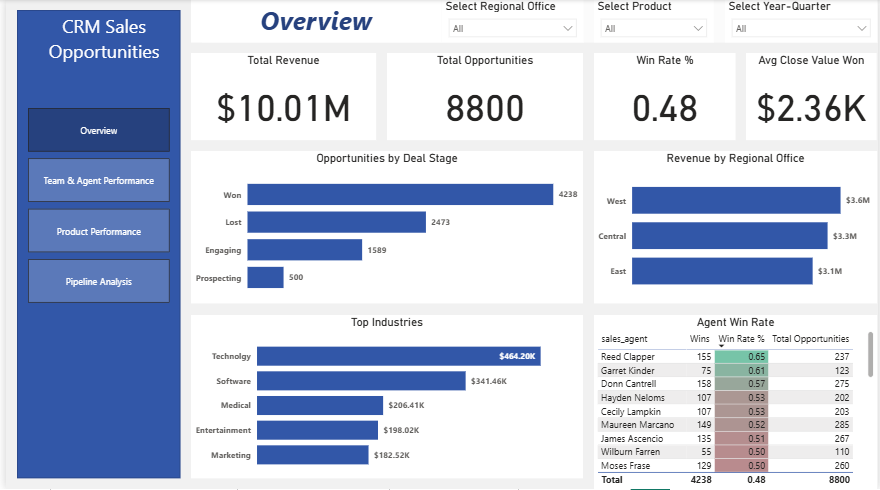

The dashboard page shown, as its layout file describes it:
{"tool":"powerbi","page":{"name":"Overview","canvas":[1280,720],"ordinal":0},"visuals":[{"type":"card","title":"Total Revenue","fields":{"Values":["_Measures.Total Pipeline Value"]},"box":[272,80,272,128],"z":0},{"type":"card","title":"Win Rate %","fields":{"Values":["_Measures.Win Rate %"]},"box":[864,80,208,128],"z":1000},{"type":"card","title":"Total Opportunities","fields":{"Values":["_Measures.Opportunities Count"]},"box":[560,80,288,128],"z":2000},{"type":"clusteredBarChart","title":"Revenue by Regional Office","fields":{"Category":["sales_teams.regional_office"],"Y":["_Measures.Total Revenue"]},"box":[864,224,416,224],"z":3000},{"type":"tableEx","title":"Agent Win Rate","fields":{"Values":["sales_pipeline.sales_agent","_Measures.Wins","_Measures.Win Rate %","_Measures.Total Opportunities"]},"box":[864,464,416,256],"z":4000},{"type":"card","title":"Avg Close Value Won","fields":{"Values":["_Measures.Avg Close Value Won"]},"box":[1088,80,192,128],"z":5000},{"type":"shape","box":[288,0,992,64],"z":6000},{"type":"textbox","box":[272,0,368,64],"z":7000},{"type":"shape","box":[16,16,240,688],"z":8000},{"type":"pageNavigator","box":[32,160,208,288],"z":9000},{"type":"textbox","box":[16,16,256,144],"z":10000},{"type":"slicer","title":"Select Year-Quarter","fields":{"Values":["Date Table.Year-Quarter"]},"box":[1056,0,224,64],"z":11000},{"type":"slicer","title":"Select Product","fields":{"Values":["products.product"]},"box":[864,0,176,64],"z":12000},{"type":"slicer","title":"Select Regional Office","fields":{"Values":["sales_teams.regional_office"]},"box":[640,0,208,64],"z":13000},{"type":"clusteredBarChart","title":"Opportunities by Deal Stage","fields":{"Category":["sales_pipeline.deal_stage"],"Y":["_Measures.Total Opportunities"]},"box":[272,224,576,224],"z":14000},{"type":"clusteredBarChart","title":"Top Industries","fields":{"Y":["_Measures.Total Revenue"],"Category":["accounts.sector"]},"box":[272,464,576,240],"z":15000}]}

Visuals, with their boxes in screenshot pixels (x1, y1, x2, y2), scaled from the page's 1280x720 canvas onto the 880x490 screenshot:
"Total Revenue" card: rect(187, 54, 374, 142)
"Win Rate %" card: rect(594, 54, 737, 142)
"Total Opportunities" card: rect(385, 54, 583, 142)
"Revenue by Regional Office" clusteredBarChart: rect(594, 152, 879, 305)
"Agent Win Rate" tableEx: rect(594, 316, 879, 489)
"Avg Close Value Won" card: rect(748, 54, 879, 142)
shape: rect(198, 0, 879, 44)
textbox: rect(187, 0, 440, 44)
shape: rect(11, 11, 176, 479)
pageNavigator: rect(22, 109, 165, 305)
textbox: rect(11, 11, 187, 109)
"Select Year-Quarter" slicer: rect(726, 0, 879, 44)
"Select Product" slicer: rect(594, 0, 715, 44)
"Select Regional Office" slicer: rect(440, 0, 583, 44)
"Opportunities by Deal Stage" clusteredBarChart: rect(187, 152, 583, 305)
"Top Industries" clusteredBarChart: rect(187, 316, 583, 479)
